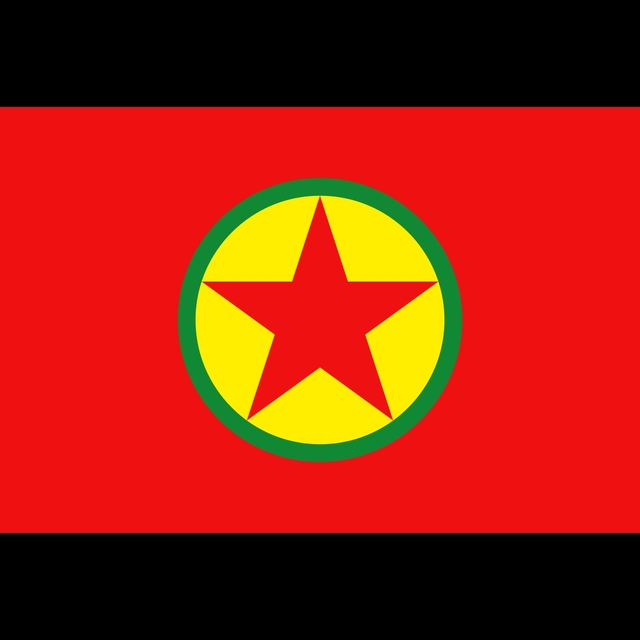PKK: (166, 171, 468, 471)
